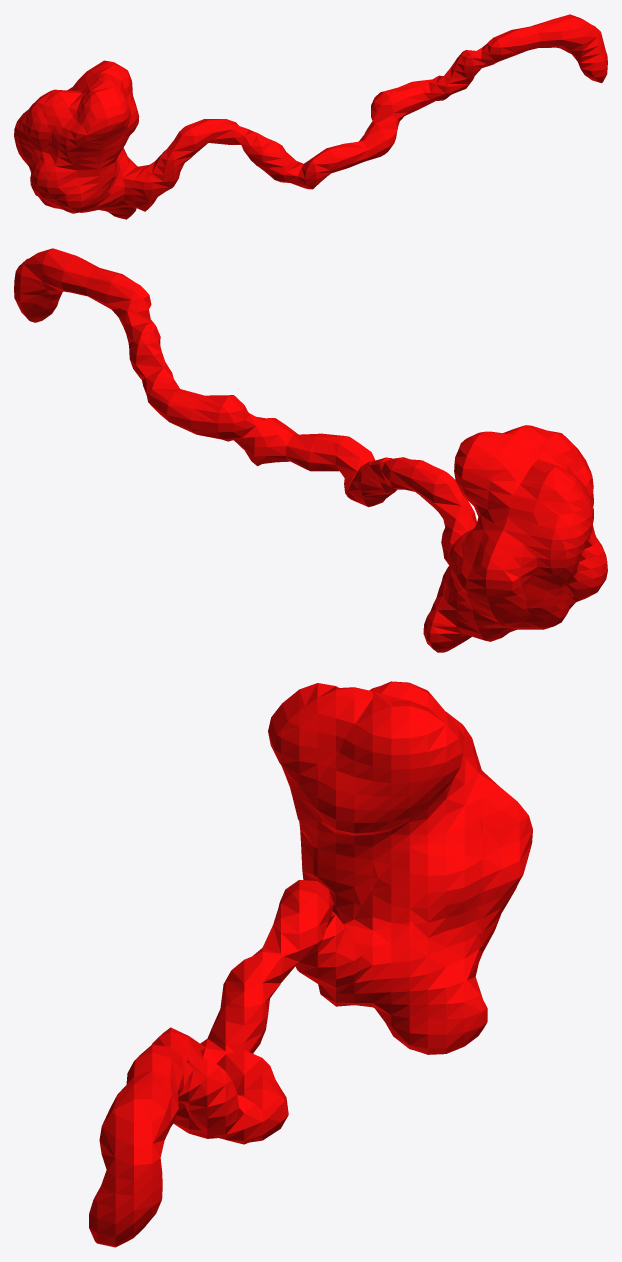
The model's file is yiaD_coarse.dae.
3 views of the same model, one above another, from view 1: azimuth 30°, elevation 25°; view 2: azimuth 150°, elevation 25°; view 3: azimuth 270°, elevation 25° (orthographic). The views are drawn at different scales.
Visible parts, largest first — view 1: yiaD; view 2: yiaD; view 3: yiaD.
Part boxes in pixels (x1,y1,x2,y2): yiaD: [14, 14, 607, 219]; yiaD: [14, 248, 607, 652]; yiaD: [89, 681, 532, 1247].
Bounding box in the file's own units: 175 × 53.92 × 65.61.
